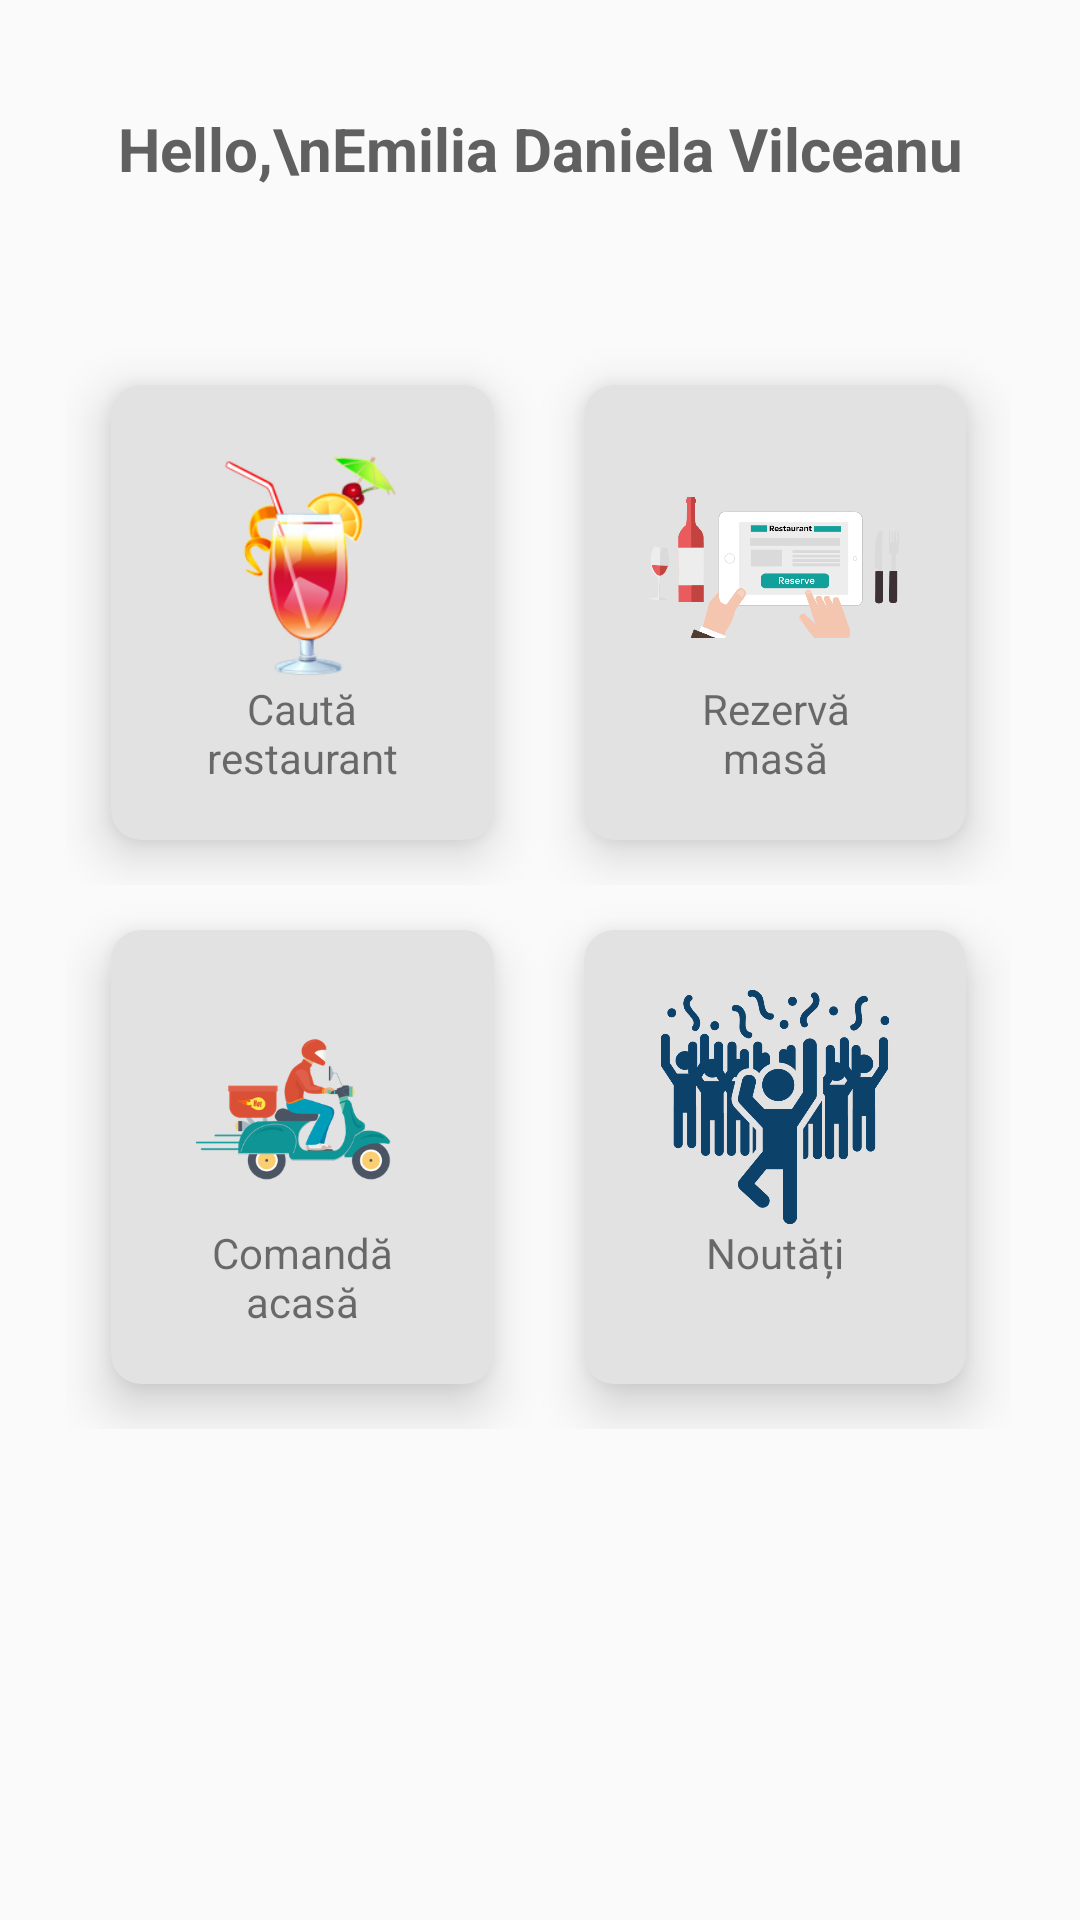

Where icons sit on this 1080w x 1920h app screen, as {"x1": x1, "y1": y1, "x2": x2, "y2": y2}:
home delivery: {"x1": 196, "y1": 1039, "x2": 390, "y2": 1180}
